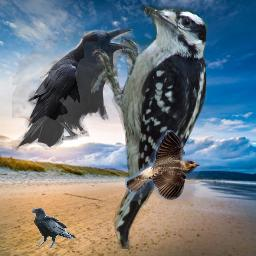Crow: (12, 29, 133, 154), (31, 208, 76, 248)
Swallow: (125, 130, 203, 201)
Woodpecker: (91, 2, 222, 249)
